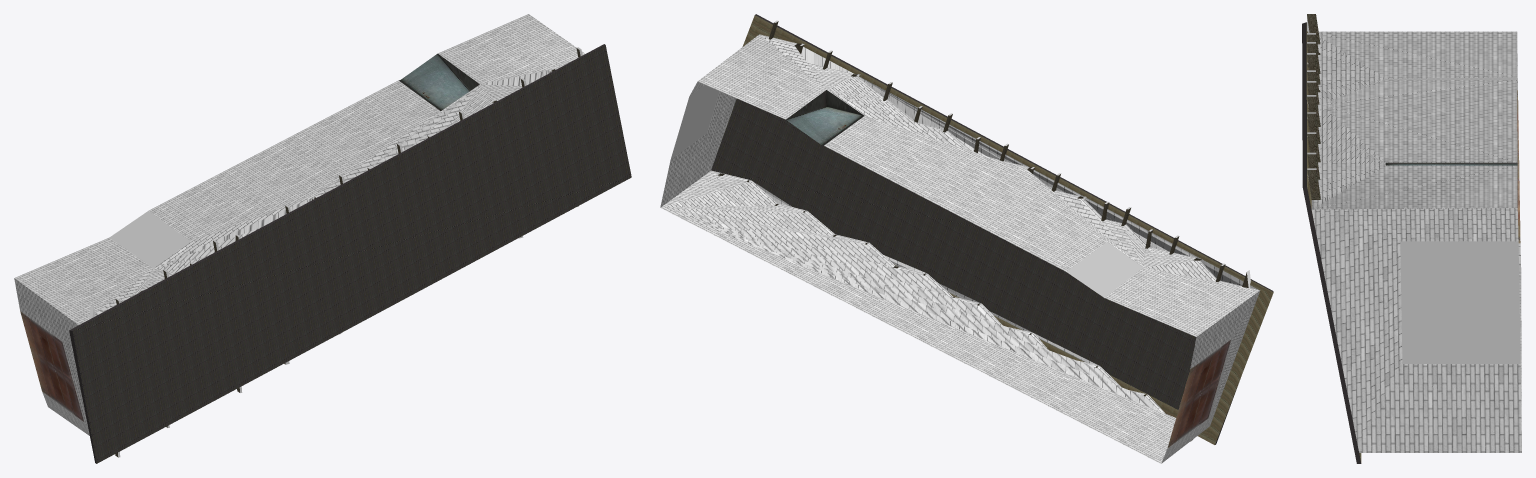
Rendered from Toompuiestee_20_2-origo.obj.
3 renders of one model, left to right at view 1: azimuth 30°, elevation 25°; view 2: azimuth 150°, elevation 25°; view 3: azimuth 270°, elevation 25°, orthographic. The views are drawn at different scales.
Parts seen in each view (by area): view 1: Toompuiestee_20_2; view 2: Toompuiestee_20_2; view 3: Toompuiestee_20_2.
Boxes of the visible parts, box(x1,y1,x2,y2) form: Toompuiestee_20_2: box(14, 14, 631, 463); Toompuiestee_20_2: box(660, 14, 1273, 463); Toompuiestee_20_2: box(1302, 14, 1521, 463).
Size of the model in its own units: 17.5 by 9 by 3.68.
